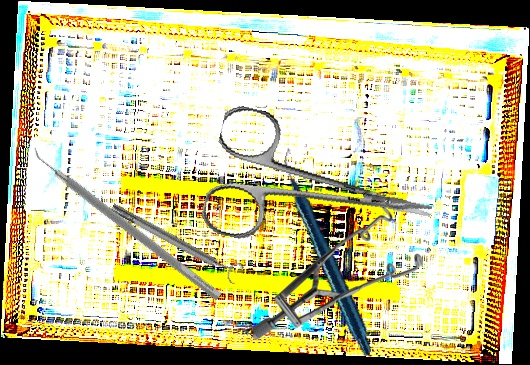Fixation Ring: (107, 195, 245, 287)
Handpiece: (245, 147, 412, 357)
Iris Scissors: (198, 102, 445, 280)
Spatula Surgical: (26, 141, 229, 302)
Speculum: (253, 205, 423, 341)
